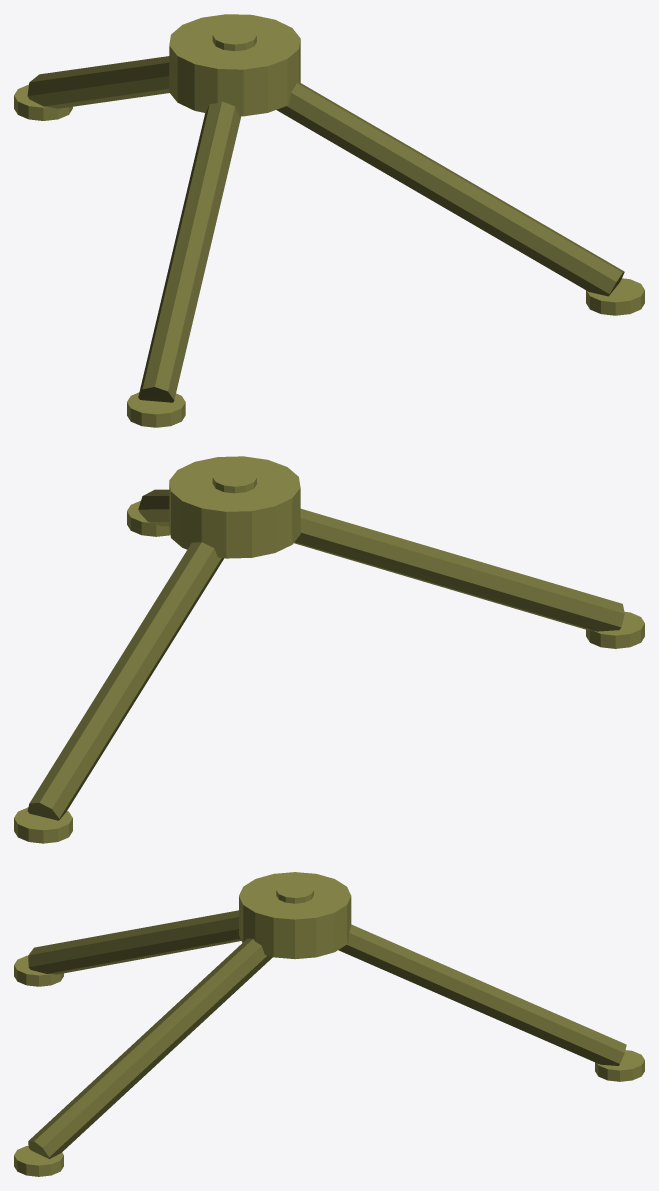
File: ce_ags30_base.obj
3 views of the same model, one above another, from view 1: azimuth 30°, elevation 25°; view 2: azimuth 150°, elevation 25°; view 3: azimuth 270°, elevation 25° (orthographic). The views are drawn at different scales.
Visible parts, largest first — view 1: ce_ags30_base_leg2, ce_ags30_base_leg1, ce_ags30_base_head, ce_ags30_base_leg0, ce_ags30_base_foot1, ce_ags30_base_foot2, ce_ags30_base_foot0, ce_ags30_base_post; view 2: ce_ags30_base_leg1, ce_ags30_base_leg0, ce_ags30_base_head, ce_ags30_base_foot0, ce_ags30_base_foot1, ce_ags30_base_leg2, ce_ags30_base_post, ce_ags30_base_foot2; view 3: ce_ags30_base_leg2, ce_ags30_base_leg0, ce_ags30_base_head, ce_ags30_base_leg1, ce_ags30_base_foot2, ce_ags30_base_foot0, ce_ags30_base_foot1, ce_ags30_base_post.
Boxes of the visible parts, x1,y1,x2,y2 form: ce_ags30_base_leg2: (276,82,624,296); ce_ags30_base_leg1: (138,101,241,402); ce_ags30_base_head: (169,14,300,116); ce_ags30_base_leg0: (27,56,169,108); ce_ags30_base_foot1: (127,392,185,427); ce_ags30_base_foot2: (586,278,644,315); ce_ags30_base_foot0: (14,84,72,120); ce_ags30_base_post: (212,26,256,51); ce_ags30_base_leg1: (294,508,624,631); ce_ags30_base_leg0: (27,542,223,820); ce_ags30_base_head: (169,456,300,558); ce_ags30_base_foot0: (14,807,72,843); ce_ags30_base_foot1: (586,611,644,648); ce_ags30_base_leg2: (138,489,169,526); ce_ags30_base_post: (212,468,256,493); ce_ags30_base_foot2: (127,500,170,536); ce_ags30_base_leg2: (28,938,272,1158); ce_ags30_base_leg0: (338,924,626,1065); ce_ags30_base_head: (239,872,351,959); ce_ags30_base_leg1: (28,910,241,974); ce_ags30_base_foot2: (14,1145,63,1176); ce_ags30_base_foot0: (595,1050,644,1081); ce_ags30_base_foot1: (14,955,63,986); ce_ags30_base_post: (276,882,313,903).
Size of the model in its own units: 0.8 by 0.32 by 1.01.
